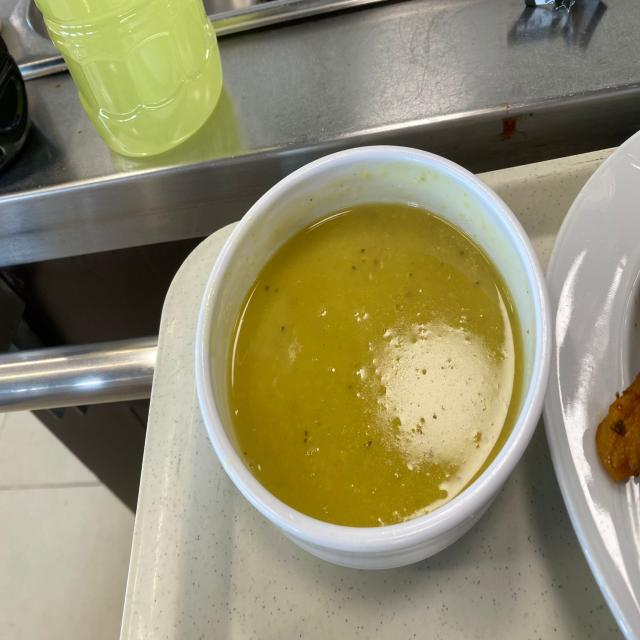corba: (194, 144, 551, 569)
